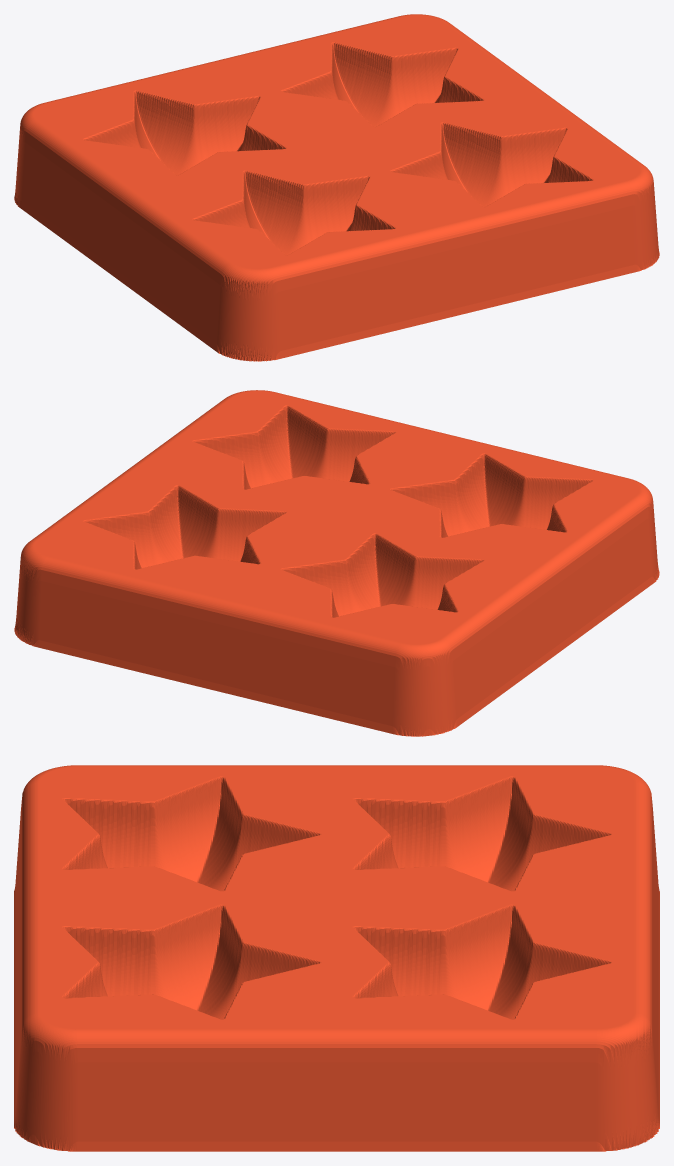
File: mold.glb
3 renders of one model, top to bottom at view 1: azimuth 30°, elevation 25°; view 2: azimuth 150°, elevation 25°; view 3: azimuth 270°, elevation 25°, orthographic. The views are drawn at different scales.
Parts seen in each view (by area): view 1: geometry_0; view 2: geometry_0; view 3: geometry_0.
Part boxes in pixels (x1,y1,x2,y2): geometry_0: (14, 14, 659, 361); geometry_0: (14, 390, 659, 736); geometry_0: (14, 765, 659, 1151).
Size of the model in its own units: 0.0952 by 0.0175 by 0.0916.
